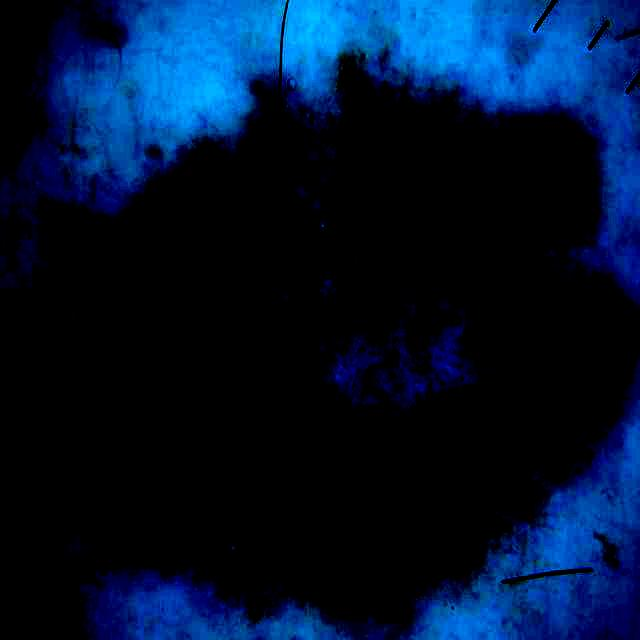MEL: (1, 58, 628, 614)
